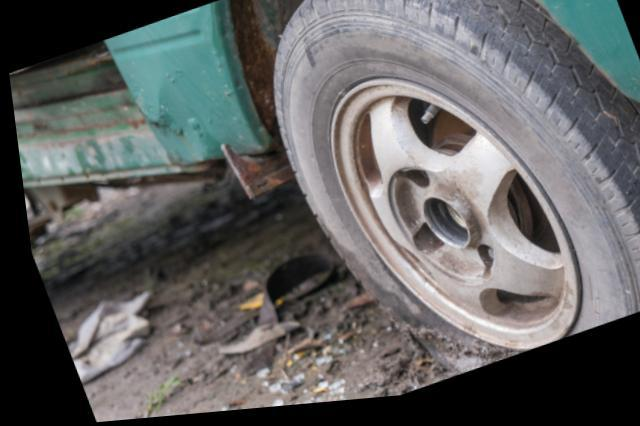tire flat: (271, 0, 640, 383)
